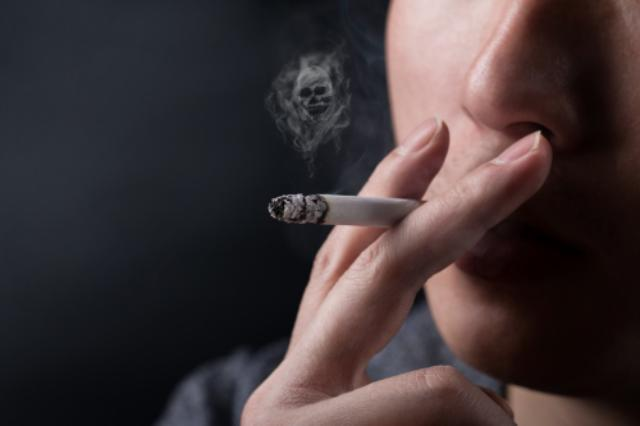Smoking: (263, 193, 411, 231)
